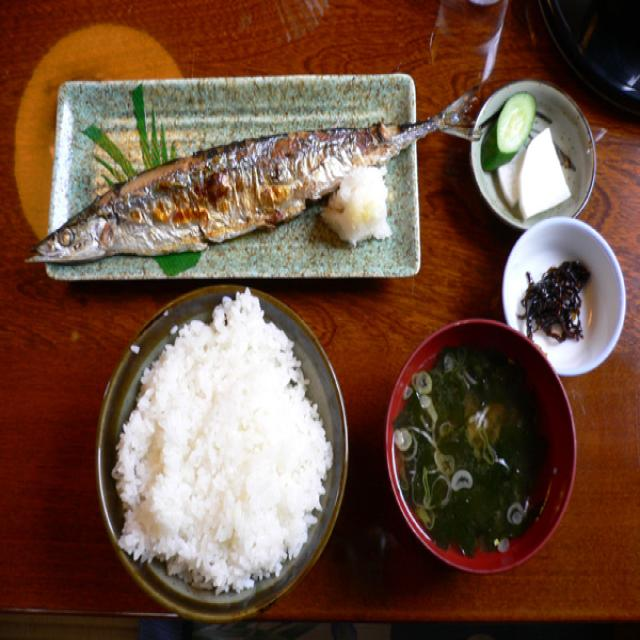熟制海鲜: (26, 64, 470, 282)
